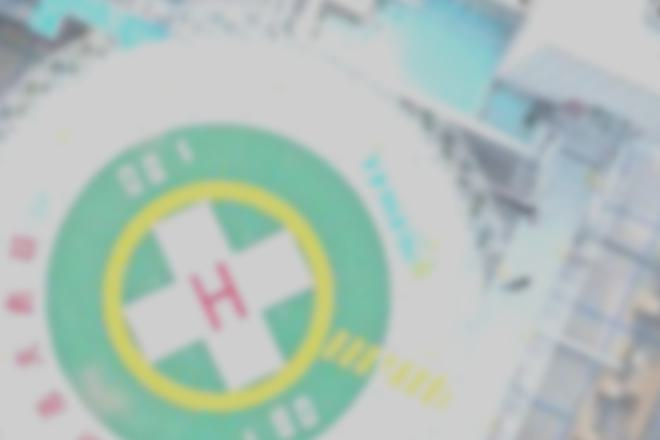Apron: (99, 182, 344, 420)
